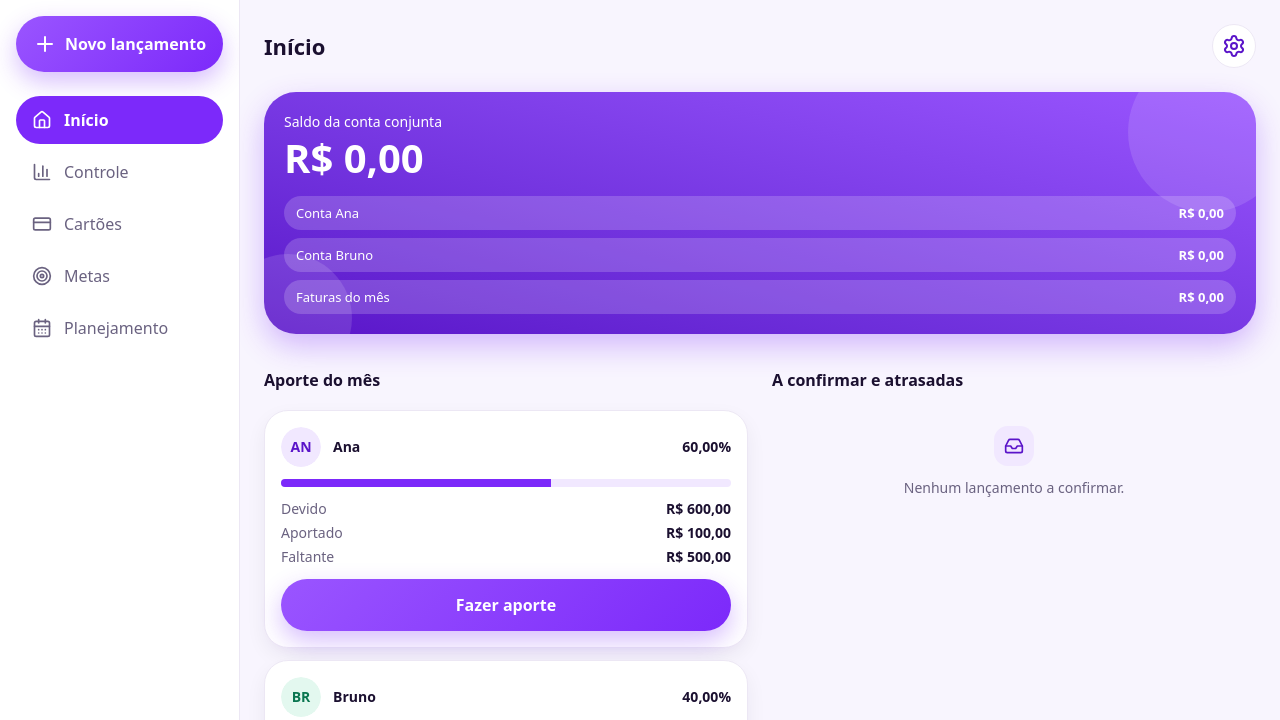
"Fazer aporte" abre a transferência preenchida (CA-5.16, CA-3.19) › preenche origem na conta de Ana, destino na conjunta, data de hoje e valor igual ao faltante
The image size is (1280, 720).
Expected: the heading "Ana" is shown, top-left (333, 437), bottom-right (360, 456)
Click the button "Fazer aporte". click: [506, 605]
box: top-left (281, 579), bottom-right (731, 631)
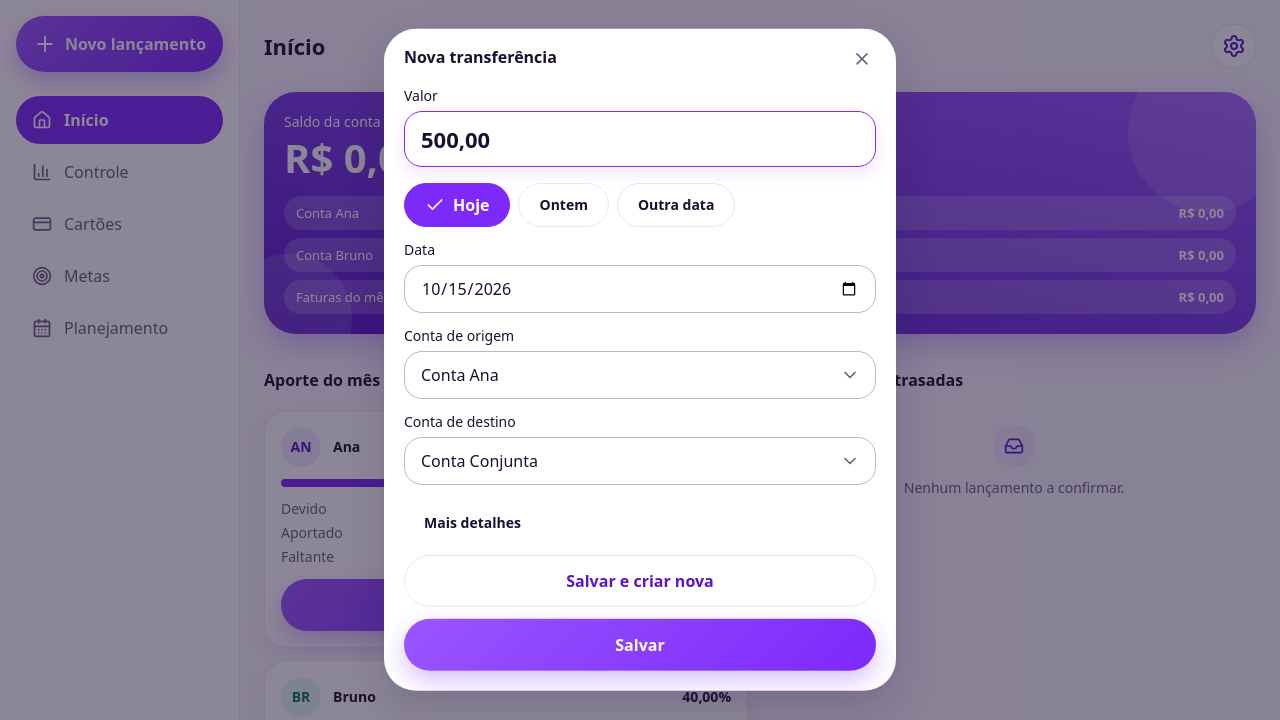
Result: the dropdown labelled "Conta de origem" shows "Conta Ana" at top-left (404, 351), bottom-right (876, 399)
Result: the dropdown labelled "Conta de destino" shows "Conta Conjunta" at top-left (404, 437), bottom-right (876, 485)
Result: the date field labelled "Data" holds "2026-10-15" at top-left (404, 265), bottom-right (876, 313)
